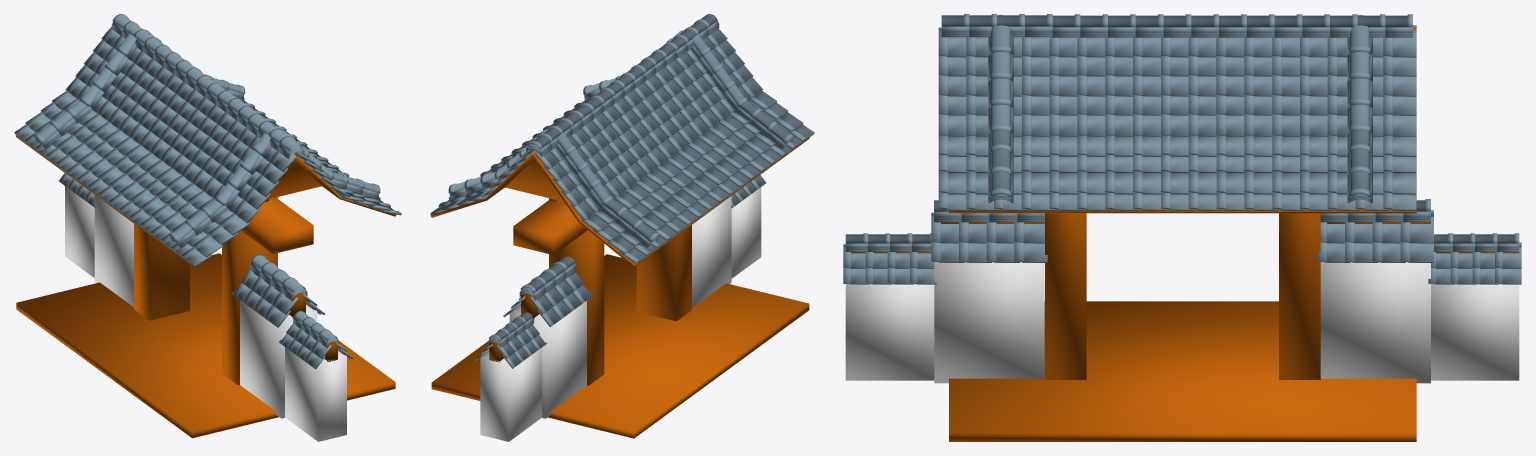
Rendered from gate.fbx.
3 views of the same model, side by side, from view 1: azimuth 30°, elevation 25°; view 2: azimuth 150°, elevation 25°; view 3: azimuth 270°, elevation 25° (orthographic). The views are drawn at different scales.
Visible parts, largest first — view 1: kawara, gate, wall_white, wall_nakami; view 2: kawara, gate, wall_white, wall_nakami; view 3: kawara, gate, wall_white.
Part boxes in pixels (x1,y1,x2,y2): kawara: [14, 14, 401, 369]; gate: [15, 135, 395, 438]; wall_white: [65, 186, 346, 441]; wall_nakami: [254, 273, 337, 362]; kawara: [430, 14, 814, 368]; gate: [430, 137, 809, 438]; wall_white: [480, 187, 761, 441]; wall_nakami: [489, 271, 575, 362]; kawara: [843, 14, 1521, 284]; gate: [949, 28, 1416, 441]; wall_white: [845, 262, 1519, 383].
Size of the model in its own units: 205 by 255 by 435.
